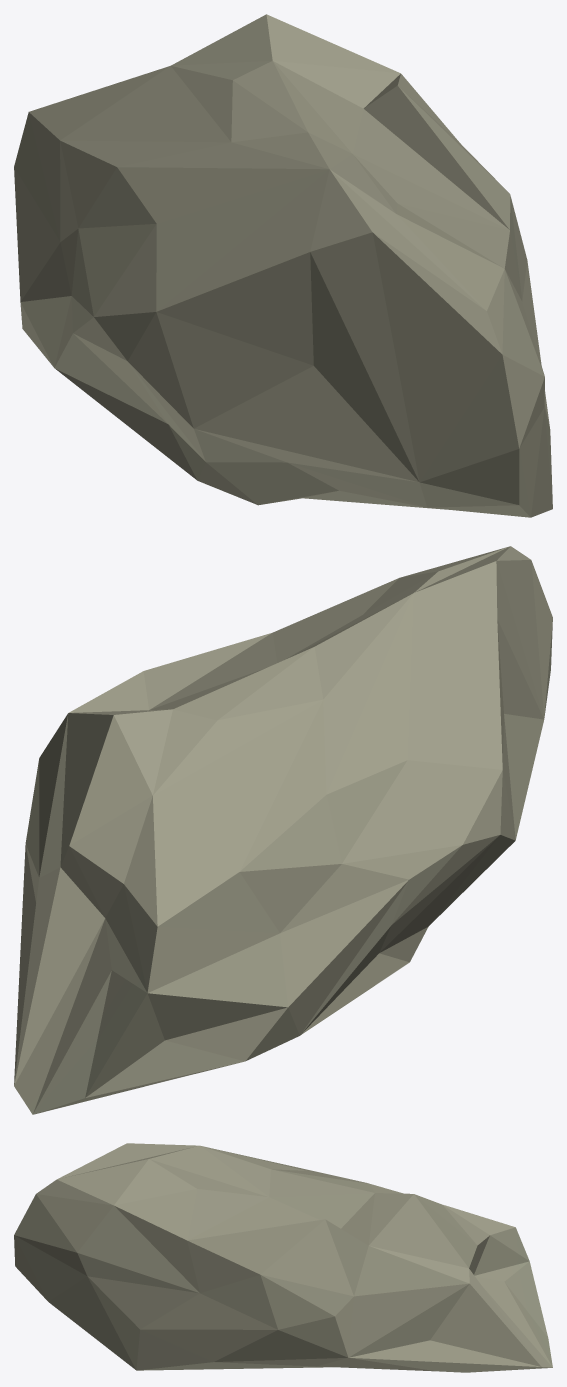
Rendered from SM_rock1.fbx.
3 views of the same model, one above another, from view 1: azimuth 30°, elevation 25°; view 2: azimuth 150°, elevation 25°; view 3: azimuth 270°, elevation 25° (orthographic). The views are drawn at different scales.
Parts seen in each view (by area): view 1: SM_rock1; view 2: SM_rock1; view 3: SM_rock1.
Boxes of the visible parts, x1,y1,x2,y2 form: SM_rock1: [14, 14, 552, 517]; SM_rock1: [14, 546, 552, 1114]; SM_rock1: [14, 1143, 552, 1372].
Size of the model in its own units: 88.22 by 73.05 by 172.
1 material, 1 textured.
